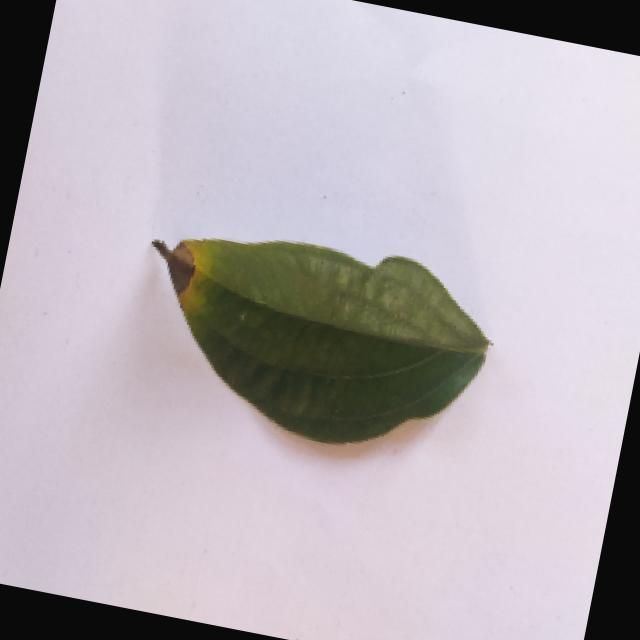footrot: (116, 194, 520, 473)
